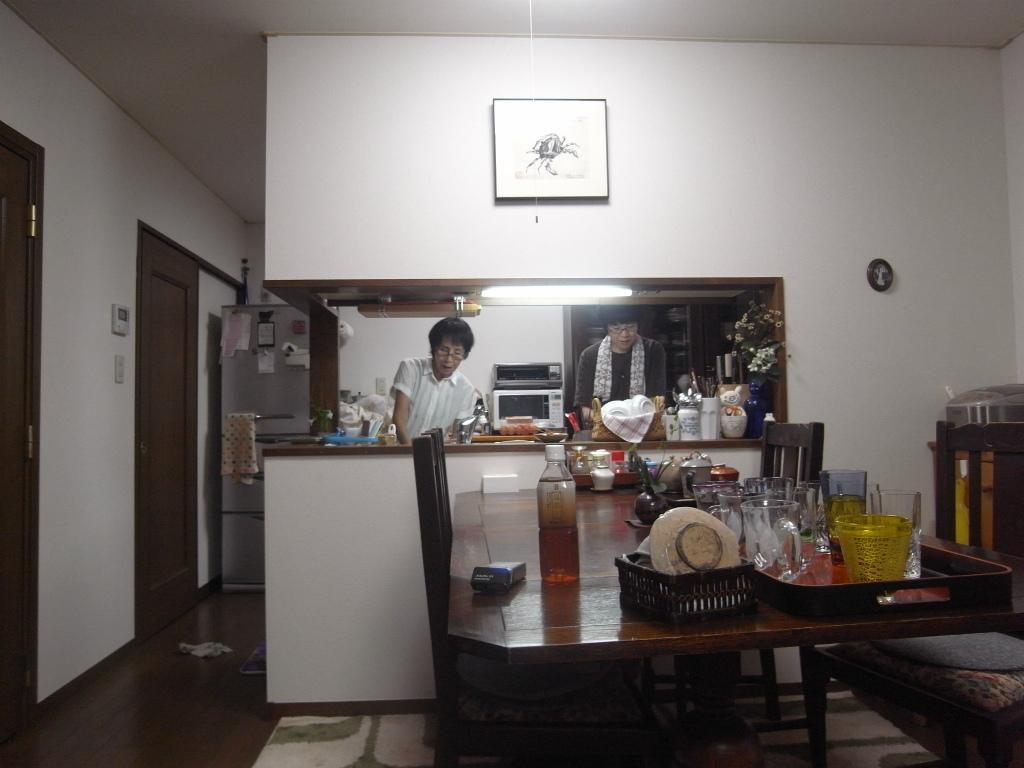door: (134, 232, 192, 596), (5, 152, 40, 706)
